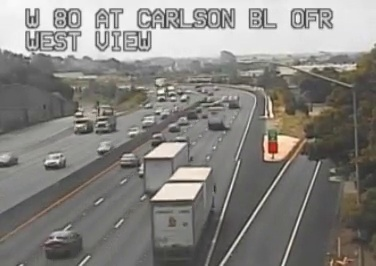car: (45, 231, 83, 259), (120, 153, 139, 168), (151, 134, 163, 145)
truck: (150, 166, 214, 266), (144, 142, 188, 196)
